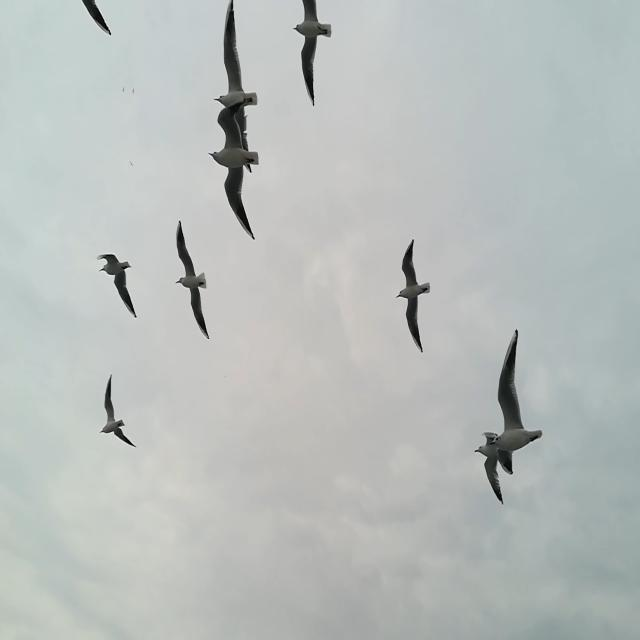bird: (487, 329, 545, 475), (214, 0, 258, 172), (208, 98, 260, 241), (293, 2, 333, 107), (175, 220, 209, 340), (396, 238, 431, 354), (101, 372, 138, 447), (96, 253, 138, 318), (474, 430, 507, 506), (82, 0, 114, 37), (121, 86, 125, 94), (130, 160, 134, 167), (132, 86, 135, 95)
